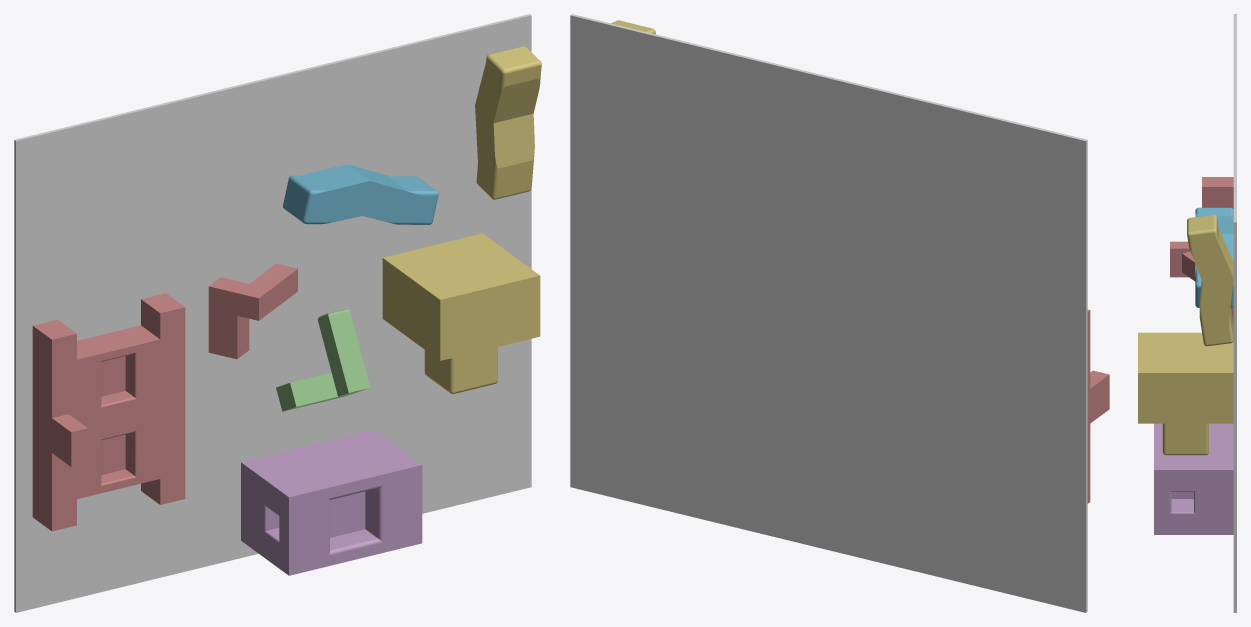
The model's file is pickup_layout.glb.
3 renders of one model, left to right at view 1: azimuth 30°, elevation 25°; view 2: azimuth 150°, elevation 25°; view 3: azimuth 270°, elevation 25°, orthographic. The views are drawn at different scales.
Parts seen in each view (by area): view 1: world, 0.obj, 3.obj, 6.obj, 1.obj, 2.obj, 5.obj, 4.obj; view 2: world, 0.obj; view 3: 6.obj, 3.obj, 1.obj, world, 0.obj, 2.obj, 5.obj.
Part boxes in pixels (left/top/right/bottom): world: left=14, top=14, right=531, bottom=612; 0.obj: left=32, top=293, right=185, bottom=531; 3.obj: left=241, top=430, right=422, bottom=575; 6.obj: left=382, top=233, right=540, bottom=393; 1.obj: left=475, top=46, right=541, bottom=199; 2.obj: left=283, top=164, right=438, bottom=224; 5.obj: left=208, top=264, right=297, bottom=359; 4.obj: left=276, top=309, right=370, bottom=411; world: left=570, top=14, right=1087, bottom=612; 0.obj: left=1087, top=309, right=1109, bottom=503; 6.obj: left=1138, top=332, right=1233, bottom=455; 3.obj: left=1154, top=423, right=1233, bottom=534; 1.obj: left=1187, top=215, right=1233, bottom=346; world: left=1233, top=14, right=1236, bottom=612; 0.obj: left=1170, top=177, right=1233, bottom=324; 2.obj: left=1195, top=207, right=1233, bottom=307; 5.obj: left=1182, top=251, right=1195, bottom=281.
Bounding box in the file's own units: 30.95 × 27.07 × 6.2.
